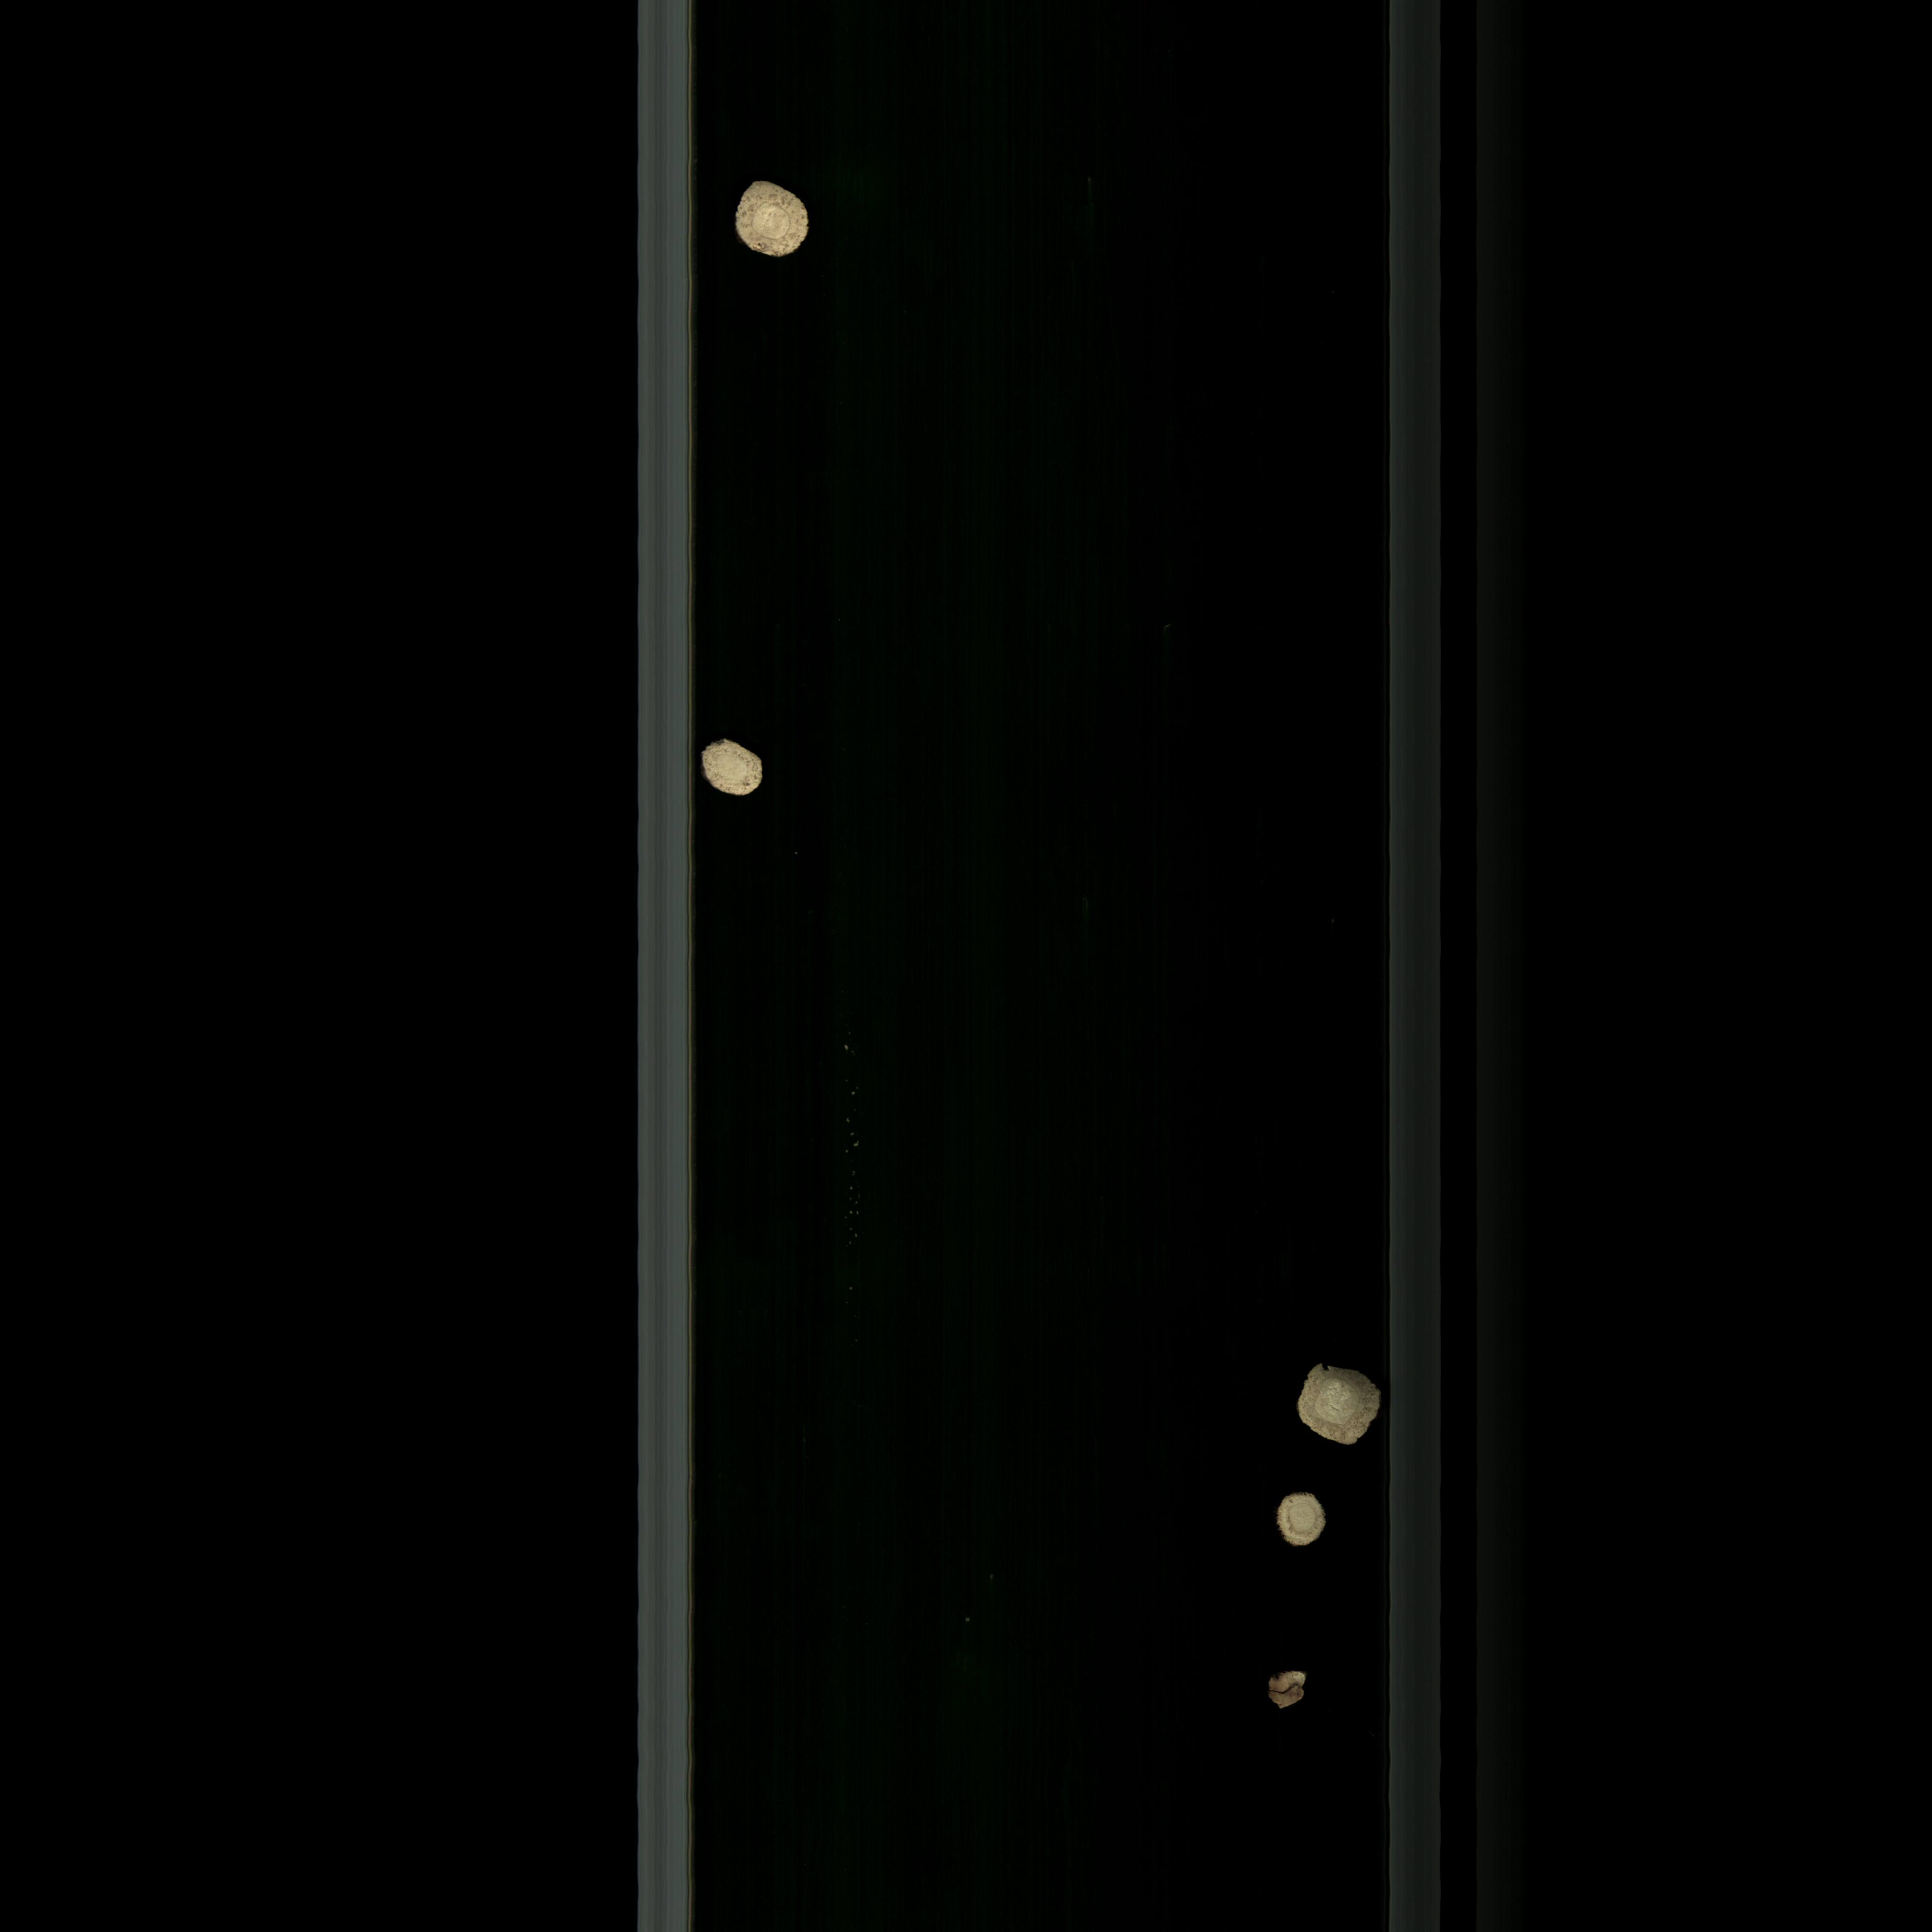moldy: (722, 170, 830, 272), (1254, 1660, 1336, 1727)
